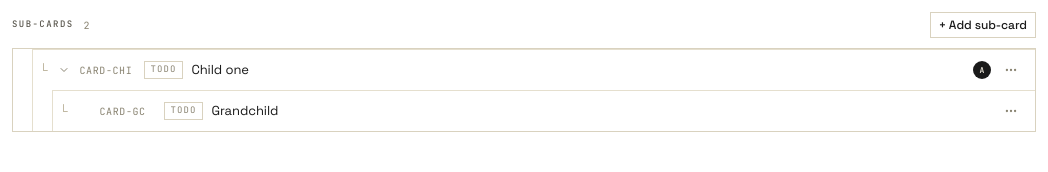
Test: SubcardTree › manually collapsing a shallow node hides its descendants
This screenshot has width=1048, height=172.
Expected: the button "Grandchild" is shown, [211, 101, 991, 121]
Click the button named "Collapse sub-cards of Child one" at coordinates (64, 70), box [56, 62, 72, 78]
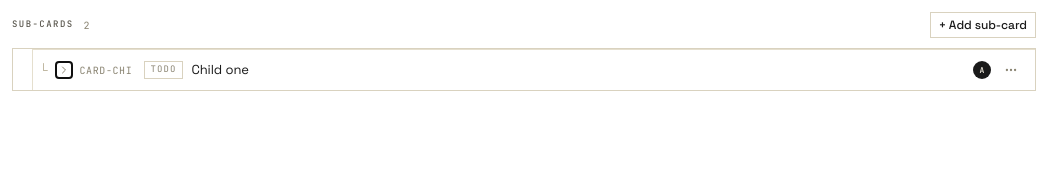
Result: the button "Grandchild" is gone
